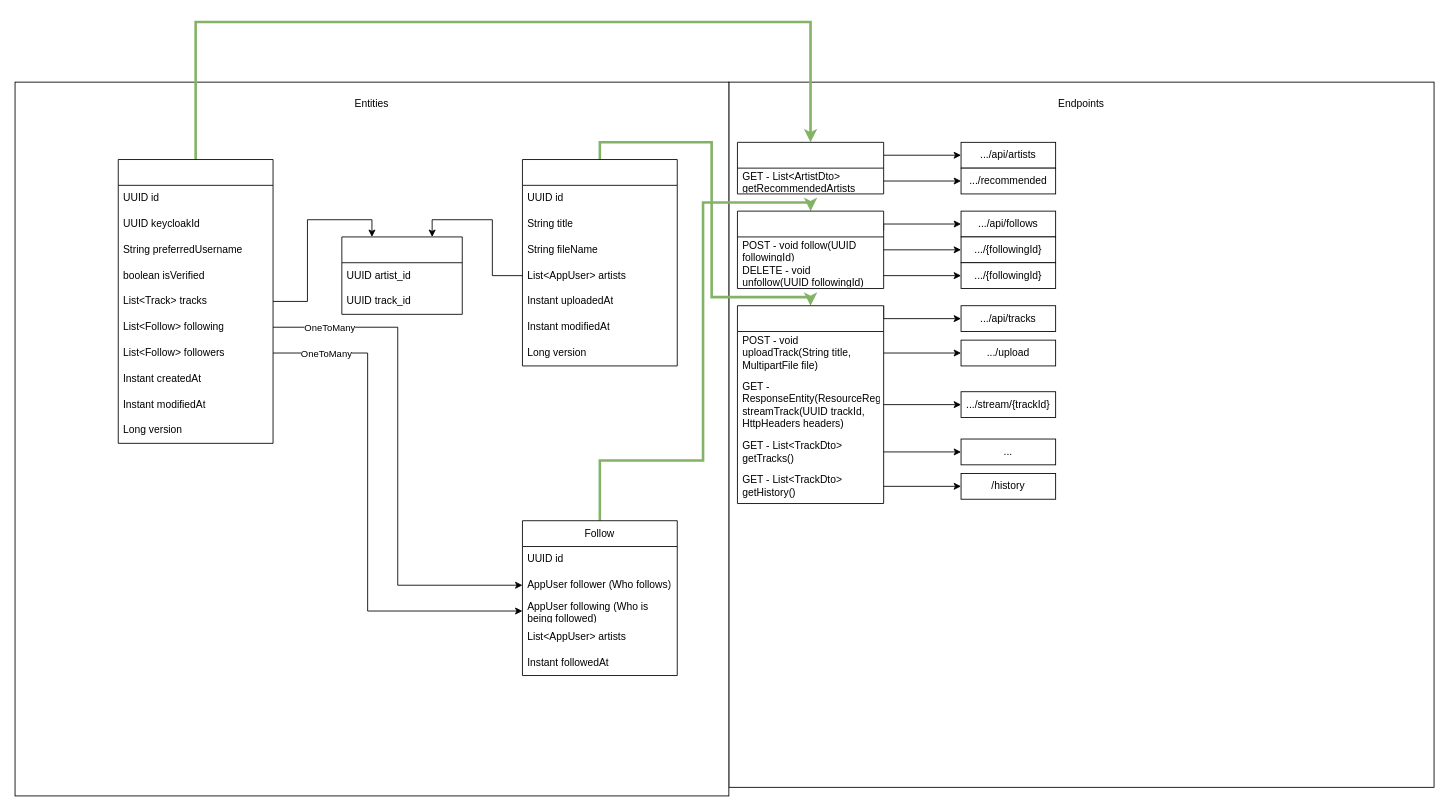
Some shapes in this 1449 by 811 pixel diagram are drawn without their labels. Each missing label, with the box of its shape:
AppUser: (117, 159, 273, 443)
ArtistController: (737, 141, 884, 194)
FollowController: (737, 210, 884, 289)
Track: (522, 159, 677, 366)
track_artists (ManyToManyTable): (341, 236, 462, 314)
TrackController: (737, 305, 884, 504)
